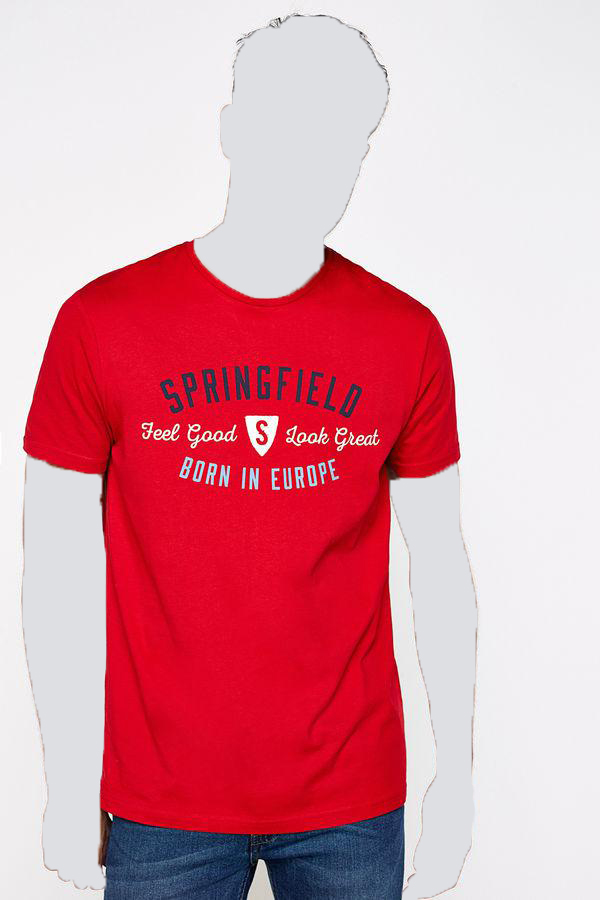teeshirt: (20, 233, 492, 838)
